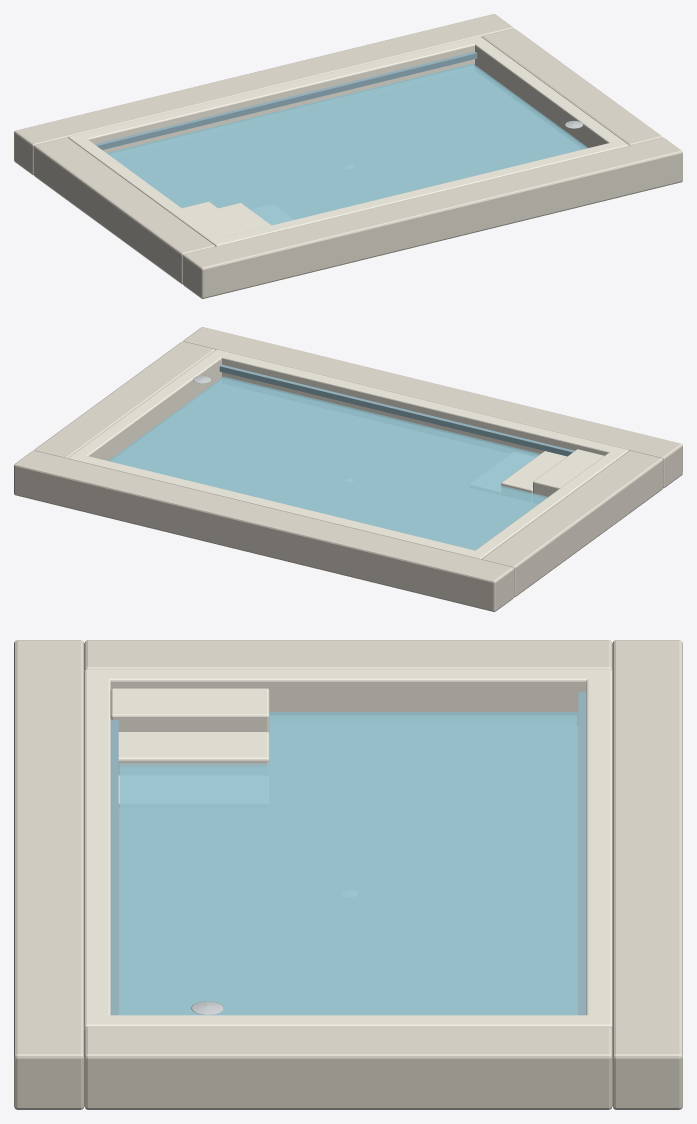
Rendered from pool_classic.glb.
3 views of the same model, one above another, from view 1: azimuth 30°, elevation 25°; view 2: azimuth 150°, elevation 25°; view 3: azimuth 270°, elevation 25° (orthographic). The views are drawn at different scales.
Parts seen in each view (by area): view 1: Tint, Water, Pool wall, Pool wall.003, Pool wall.001, Waterline tile, Pool wall.002, Pool step, Pool step.001; view 2: Tint, Water, Pool wall.001, Pool wall.003, Pool wall, Waterline tile.001, Pool wall.002, Pool step, Pool step.001; view 3: Water, Tint, Pool wall.002, Pool wall.001, Pool wall, Pool step, Pool wall.003, Pool step.001, Waterline tile, Waterline tile.001, Basin floor.
Part boxes in pixels (box(x1,y1,x2,y2)): Tint: box(14, 14, 682, 298); Water: box(107, 63, 587, 225); Pool wall: box(68, 36, 486, 152); Pool wall.003: box(470, 38, 627, 147); Pool wall.001: box(210, 142, 628, 246); Waterline tile: box(95, 51, 477, 149); Pool wall.002: box(74, 138, 225, 246); Pool step: box(182, 201, 248, 237); Pool step.001: box(218, 203, 271, 230); Tint: box(14, 327, 682, 611); Water: box(109, 376, 547, 550); Pool wall.001: box(211, 349, 628, 455); Pool wall.003: box(69, 351, 223, 460); Pool wall: box(68, 455, 486, 559); Waterline tile.001: box(219, 364, 574, 456); Pool wall.002: box(469, 447, 628, 558); Pool step: box(533, 449, 604, 497); Pool step.001: box(501, 451, 566, 494); Water: box(119, 712, 577, 1015); Tint: box(14, 640, 682, 1109); Pool wall.002: box(84, 669, 612, 725); Pool wall.001: box(84, 669, 110, 1029); Pool wall: box(586, 669, 612, 1029); Pool step: box(110, 688, 269, 733); Pool wall.003: box(84, 1015, 612, 1026); Pool step.001: box(118, 732, 269, 775); Waterline tile: box(578, 692, 586, 1015); Waterline tile.001: box(110, 719, 118, 1015); Basin floor: box(118, 726, 578, 1015).
Bounding box in the file's own units: 5.6 × 0.361 × 3.8.
